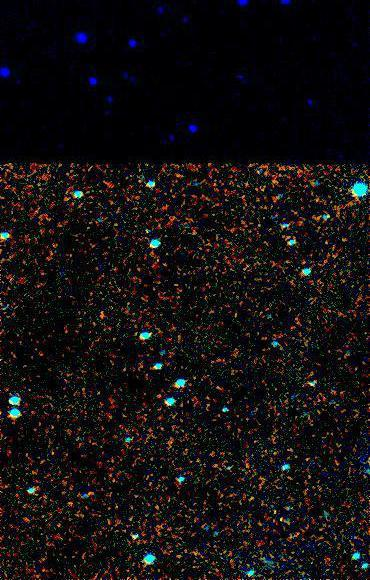star: (178, 218, 208, 248)
